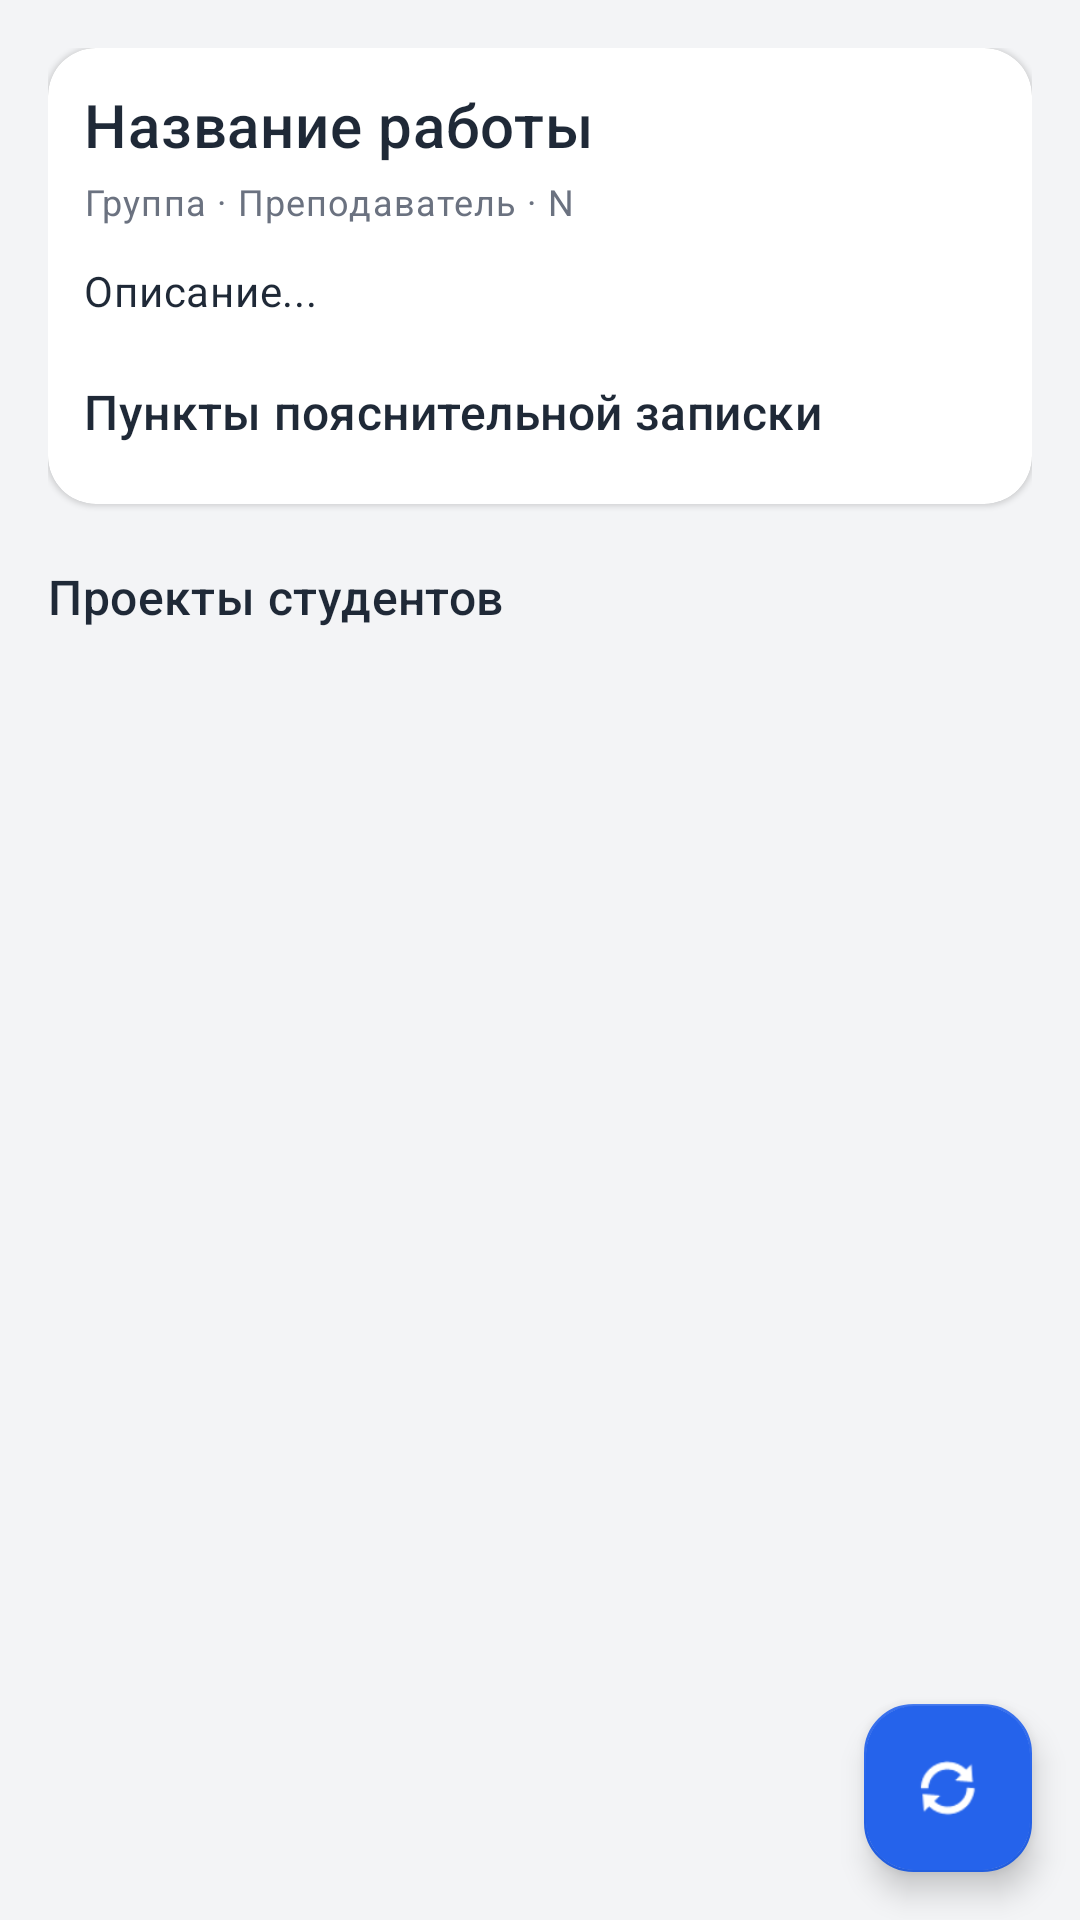

Where to tap for icons on this 1080*1920 app screen, as point (x, y):
Refresh: point (948, 1788)
